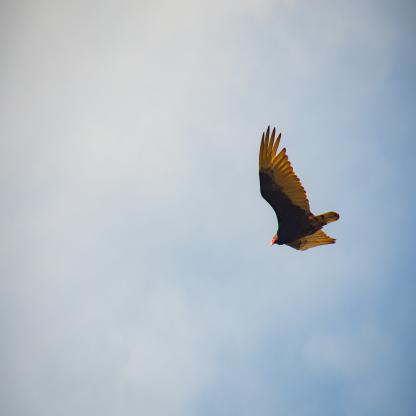bird: (260, 127, 338, 252)
